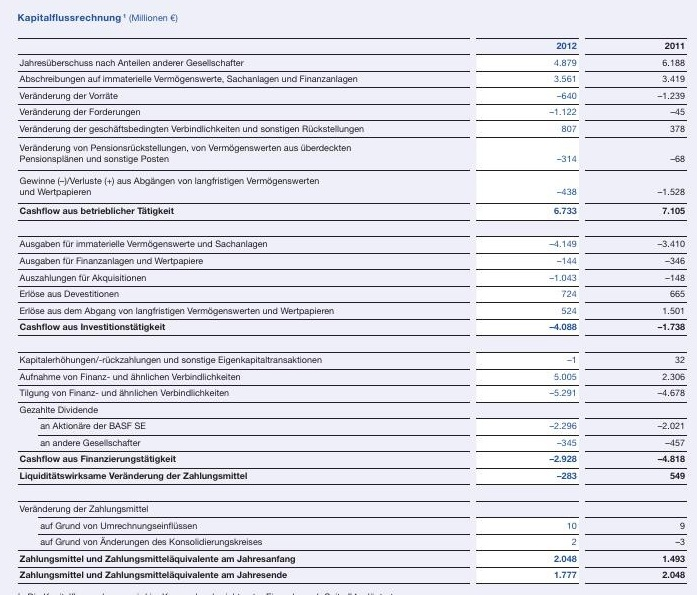table: (0, 0, 697, 595)
